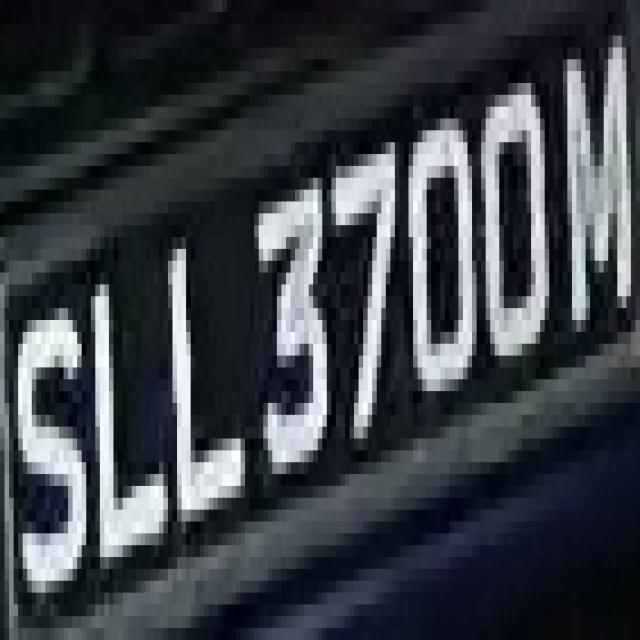0: (395, 95, 486, 415), (477, 71, 558, 379)
3: (245, 154, 341, 510)
7: (327, 95, 399, 486)
L: (154, 202, 264, 534), (82, 249, 186, 533)
M: (554, 36, 635, 356)
S: (9, 260, 100, 592)
